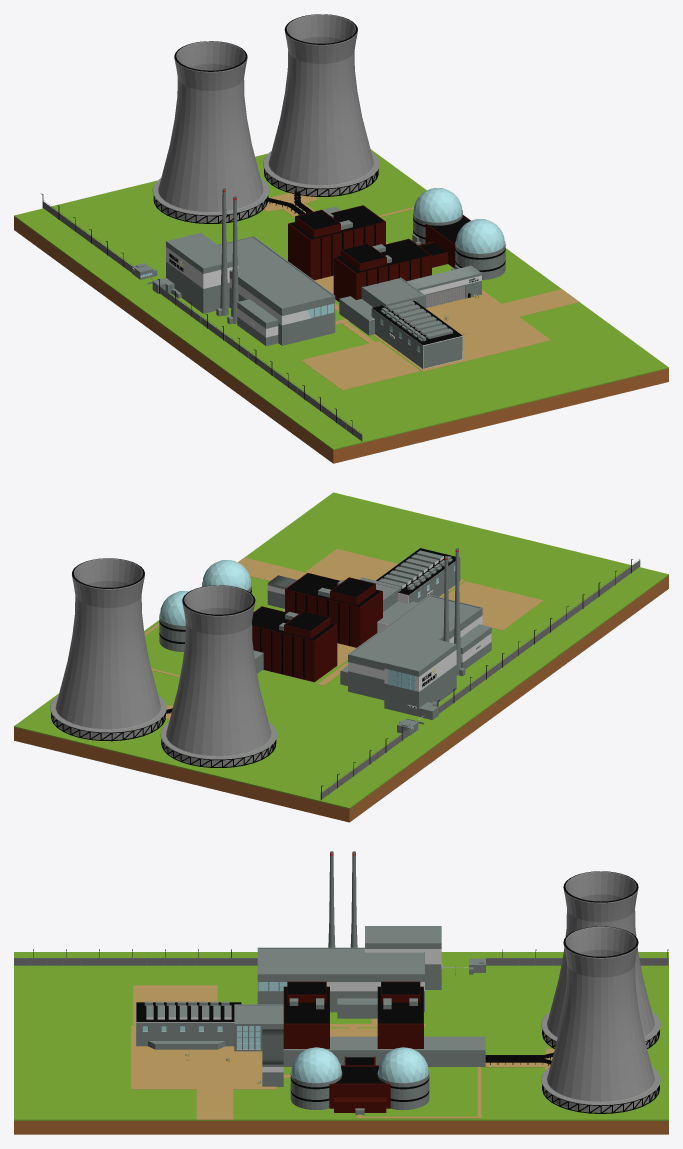
The model's file is NuclearPowerPlant.fbx.
3 renders of one model, top to bottom at view 1: azimuth 30°, elevation 25°; view 2: azimuth 150°, elevation 25°; view 3: azimuth 270°, elevation 25°, orthographic. The views are drawn at different scales.
Parts seen in each view (by area): view 1: Cylinder.039; view 2: Cylinder.039; view 3: Cylinder.039.
Part boxes in pixels (x1,y1,x2,y2): Cylinder.039: (14,14,668,463); Cylinder.039: (14,492,668,822); Cylinder.039: (14,851,668,1134).
Bounding box in the file's own units: 4851 × 2186 × 7997.
